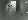person: (7, 3, 16, 15)
